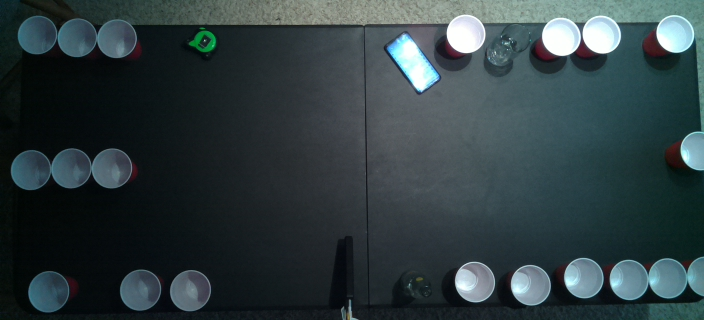active bp cup: (51, 148, 92, 189), (92, 148, 133, 188), (10, 150, 51, 190), (679, 131, 703, 170)
inactive bp cup: (454, 260, 496, 304), (27, 270, 69, 313), (169, 269, 211, 312), (509, 264, 551, 306), (120, 269, 161, 311), (540, 16, 581, 57), (102, 17, 144, 57), (444, 14, 485, 54), (56, 17, 97, 57), (564, 257, 604, 298), (609, 259, 649, 300), (655, 14, 694, 54), (649, 257, 687, 298), (17, 16, 56, 55), (582, 14, 620, 54), (688, 254, 703, 297)
